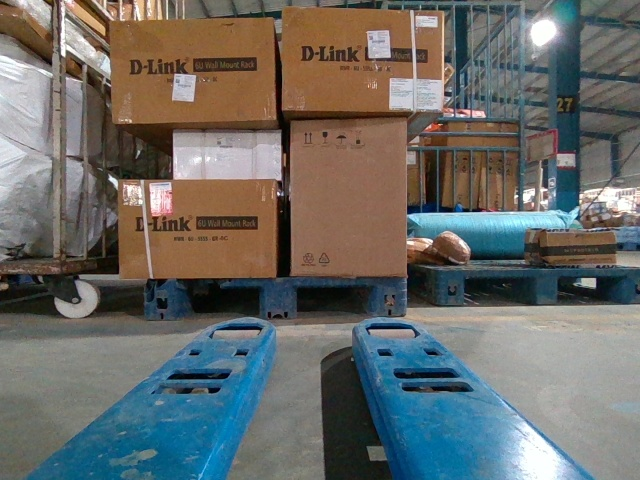block: (365, 274, 409, 319), (144, 278, 187, 323), (256, 279, 299, 322), (438, 267, 466, 304), (529, 269, 558, 301)
front: (144, 276, 407, 317)
hole pallet: (186, 287, 259, 320), (555, 277, 629, 308), (293, 287, 368, 317), (468, 276, 534, 304)
